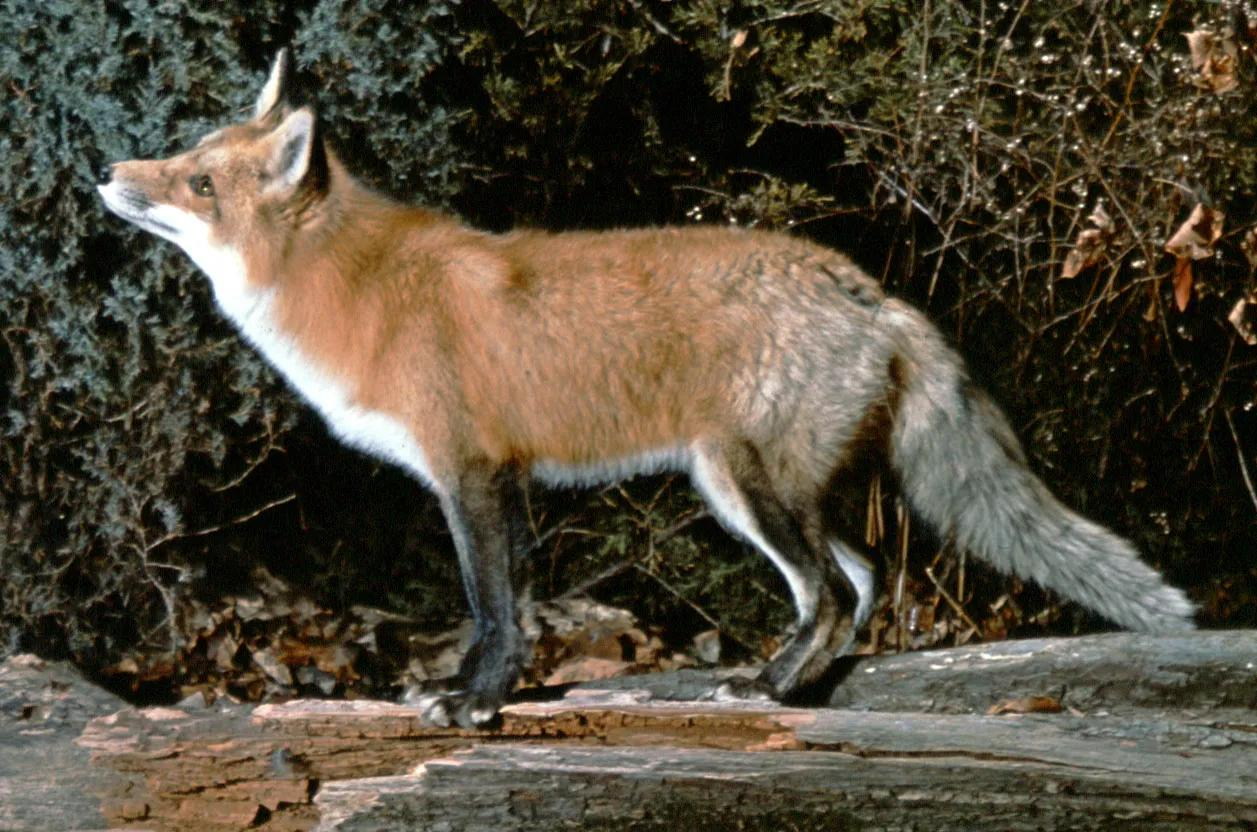fox: (96, 44, 1138, 738)
